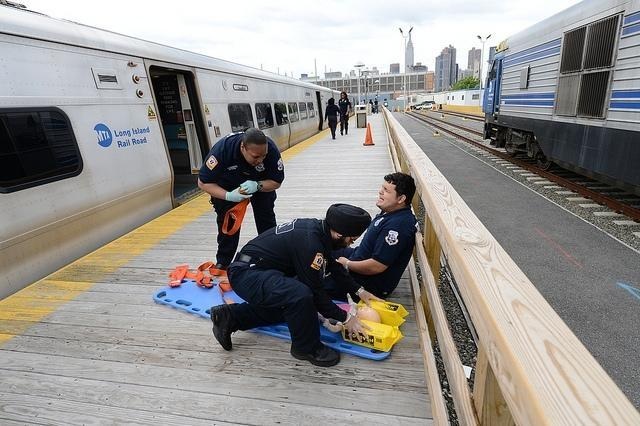car: (416, 101, 436, 110)
